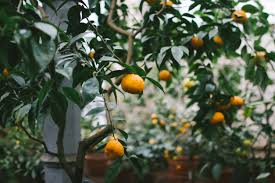orange: (118, 70, 145, 94), (105, 134, 127, 159)
